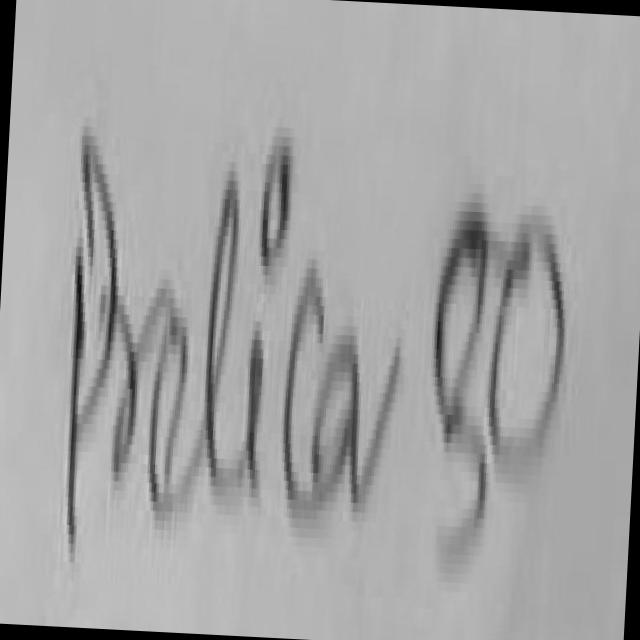0: (491, 224, 567, 455)
3: (433, 212, 491, 560)
P: (67, 127, 120, 549)
a: (311, 336, 399, 516)
c: (286, 269, 326, 525)
e: (147, 313, 194, 535)
i: (232, 330, 265, 516), (261, 146, 290, 262)
l: (186, 181, 239, 514)
r: (113, 279, 169, 499)
